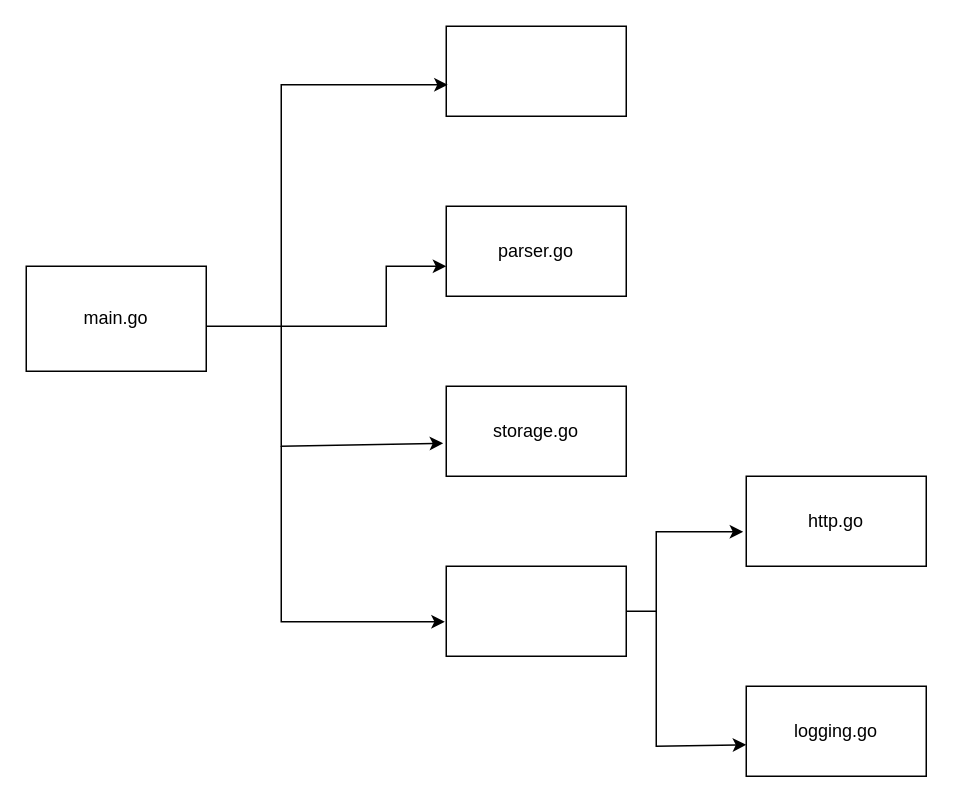
The diagram is 953 pixels wide and 803 high, and some of its shapes have lost their labels. The centre of each missing label's shape, as x and y in pixels:
scraper.go: the point at 535,70
utils: the point at 535,610
